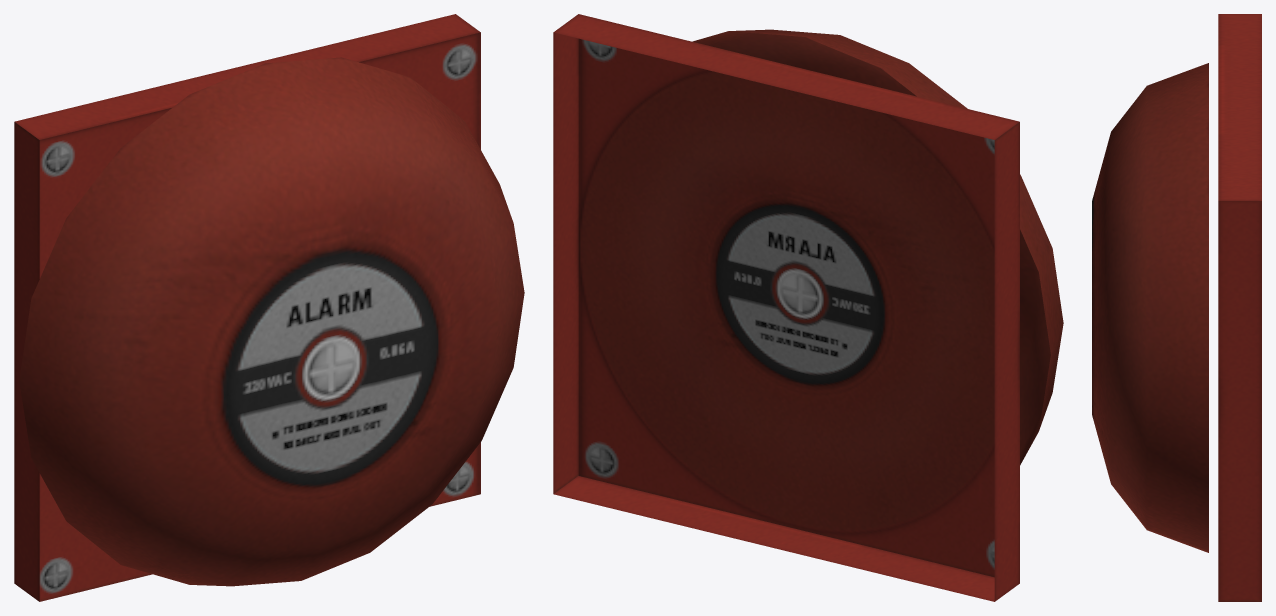
The model's file is ms_fire_alarm.fbx.
The picture shows the model from 3 angles, left to right: view 1: azimuth 30°, elevation 25°; view 2: azimuth 150°, elevation 25°; view 3: azimuth 270°, elevation 25°; orthographic projection. The views are drawn at different scales.
Parts seen in each view (by area): view 1: ms_fire_alarm; view 2: ms_fire_alarm; view 3: ms_fire_alarm.
Part boxes in pixels (<box>): ms_fire_alarm: <box>14,14,524,601</box>; ms_fire_alarm: <box>553,14,1063,601</box>; ms_fire_alarm: <box>1092,14,1261,601</box>.
Bounding box in the file's own units: 16.18 × 16.18 × 5.56.
